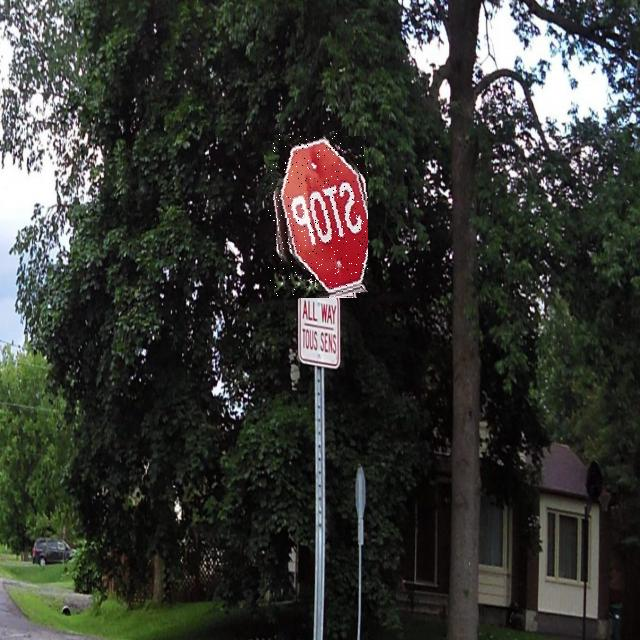stop: (268, 132, 368, 298)
